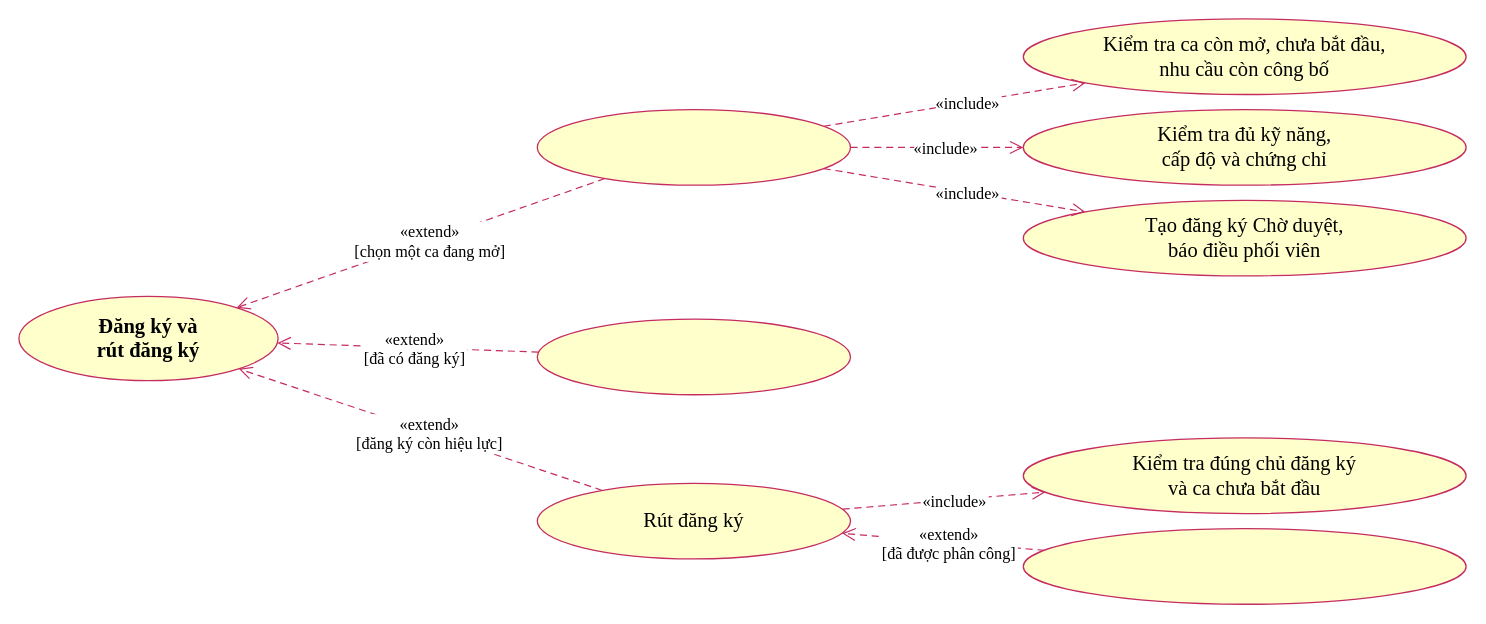
Image size: 1486x624. Some labels were removed from this diagram. Here are the shapes that lost their labels. From the top down, the box of each, then its label:
(536, 108, 851, 185): Gửi đăng ký
(536, 318, 851, 395): Xem đăng ký của mình
(1022, 527, 1466, 604): Trả lại chỗ cho ca
